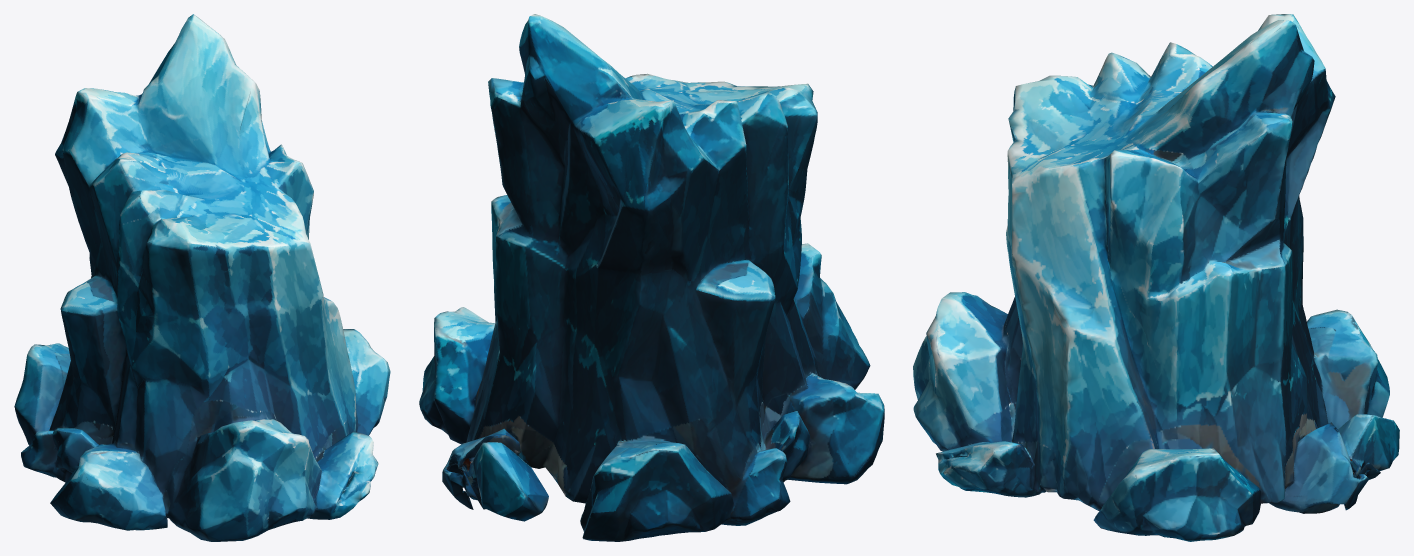
File: IceSpike_05.fbx
The picture shows the model from 3 angles, left to right: view 1: azimuth 30°, elevation 25°; view 2: azimuth 150°, elevation 25°; view 3: azimuth 270°, elevation 25°; orthographic projection. The views are drawn at different scales.
Parts seen in each view (by area): view 1: texture_mapping; view 2: texture_mapping; view 3: texture_mapping.
Part boxes in pixels (<box>): texture_mapping: <box>14,14,390,541</box>; texture_mapping: <box>419,14,884,541</box>; texture_mapping: <box>913,14,1399,541</box>.
Bounding box in the file's own units: 0.8914 × 0.9218 × 1.
1 material, 1 textured.
